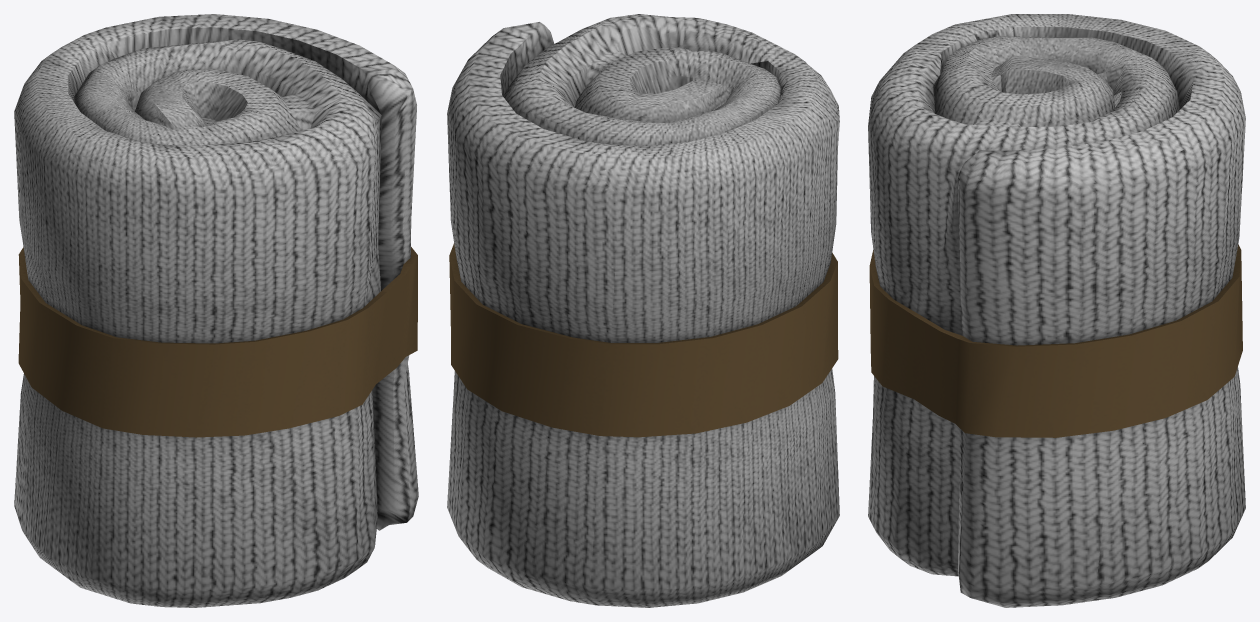
The model's file is Gauze.fbx.
3 renders of one model, left to right at view 1: azimuth 30°, elevation 25°; view 2: azimuth 150°, elevation 25°; view 3: azimuth 270°, elevation 25°, orthographic.
Parts seen in each view (by area): view 1: Gauze; view 2: Gauze; view 3: Gauze.
Part boxes in pixels (x1,y1,x2,y2): Gauze: (14,14,418,607); Gauze: (447,14,839,607); Gauze: (868,14,1245,607).
Bounding box in the file's own units: 96.83 × 122 × 92.34.
Materials: 1 (1 with a texture image).
